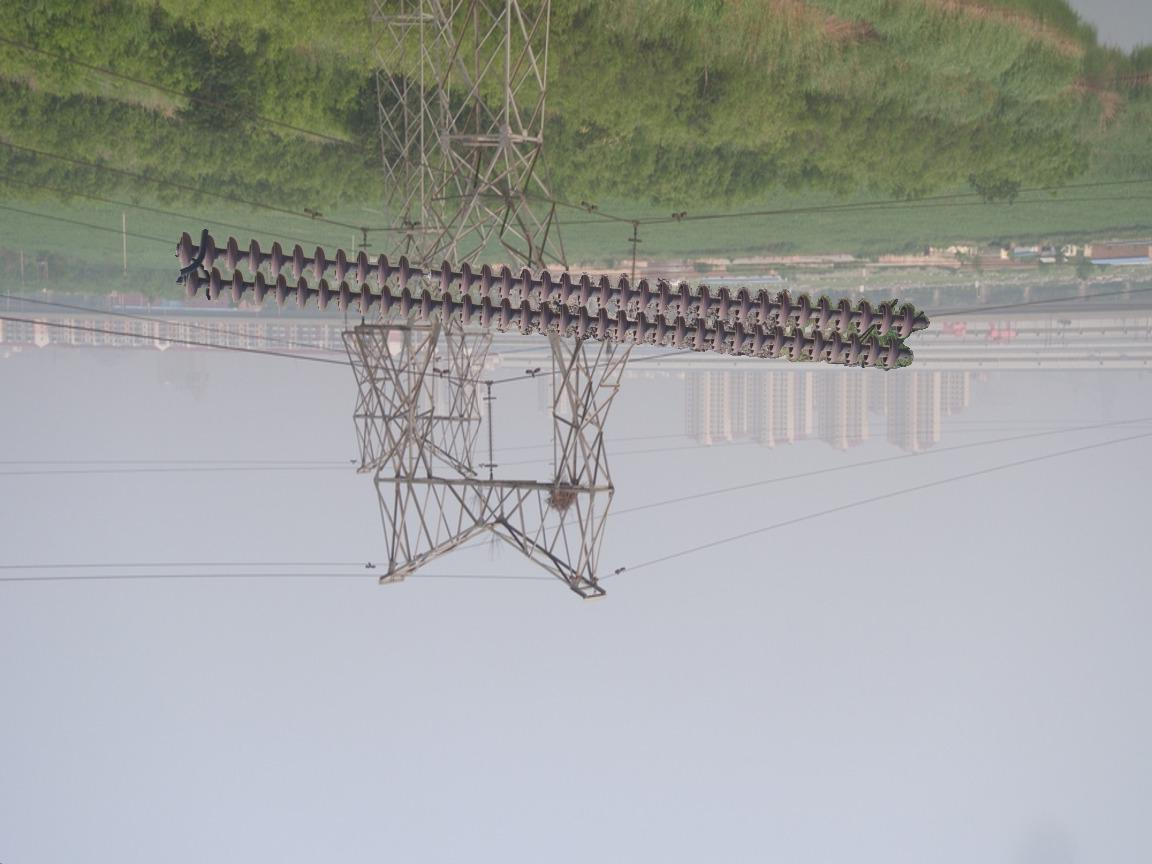insulator: (173, 228, 926, 374)
insulator_stringdrop: (395, 254, 454, 296)
